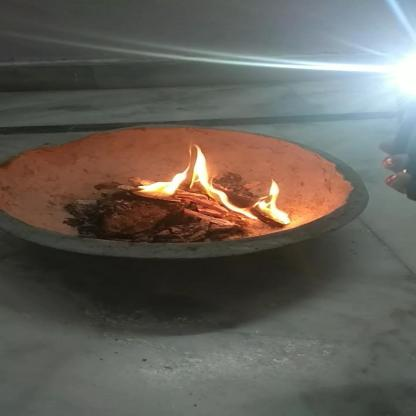fire: (134, 140, 256, 221), (252, 172, 297, 227)
